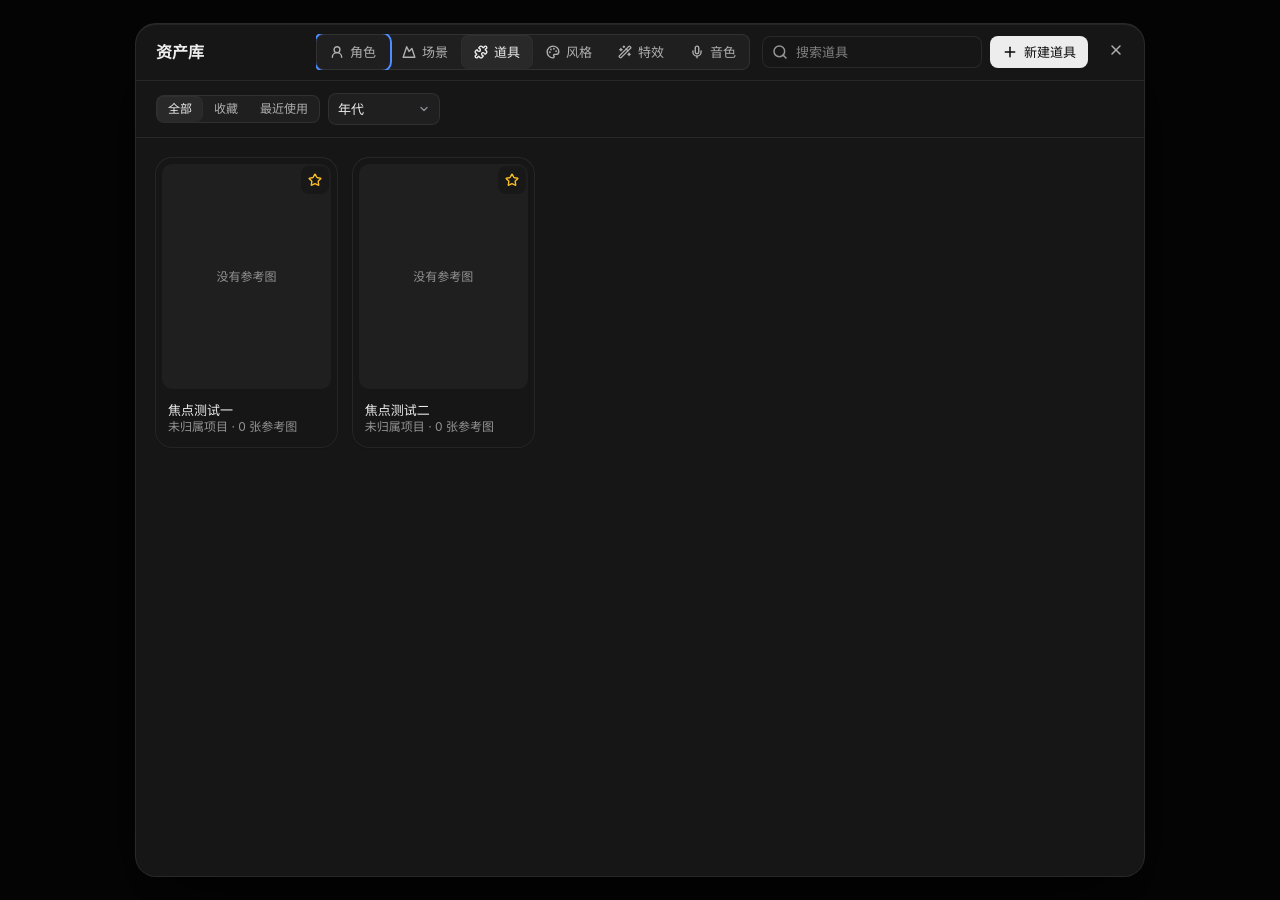
Test: 资产库面板的收藏 › 取消收藏等待期间主动搜索，迟到响应不夺走查询框焦点
Click the 1st button named "取消收藏" at (315, 180), box [301, 166, 329, 194]
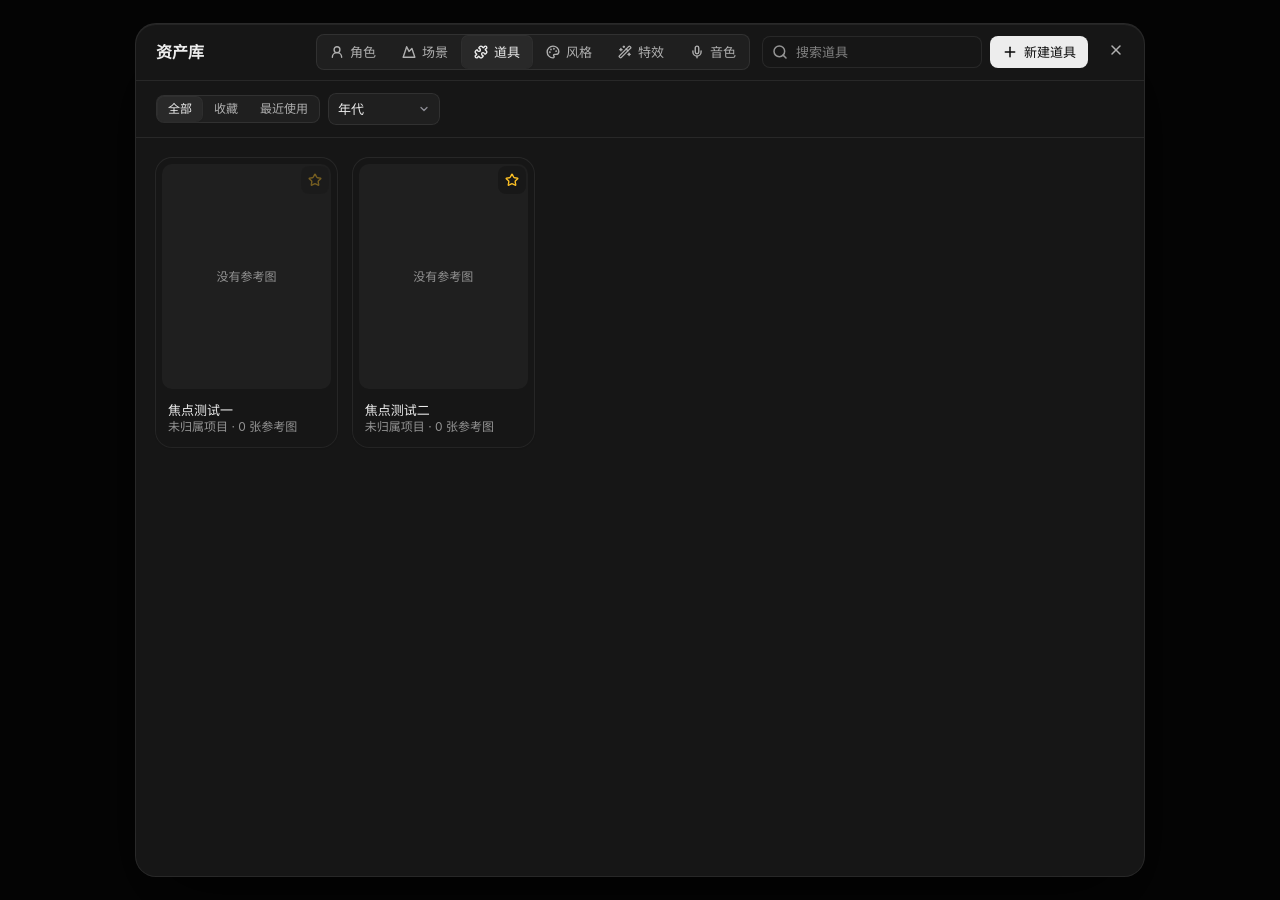
Type "焦点测试二" into the search field labelled "搜索道具" at (884, 52), box [796, 43, 972, 61]
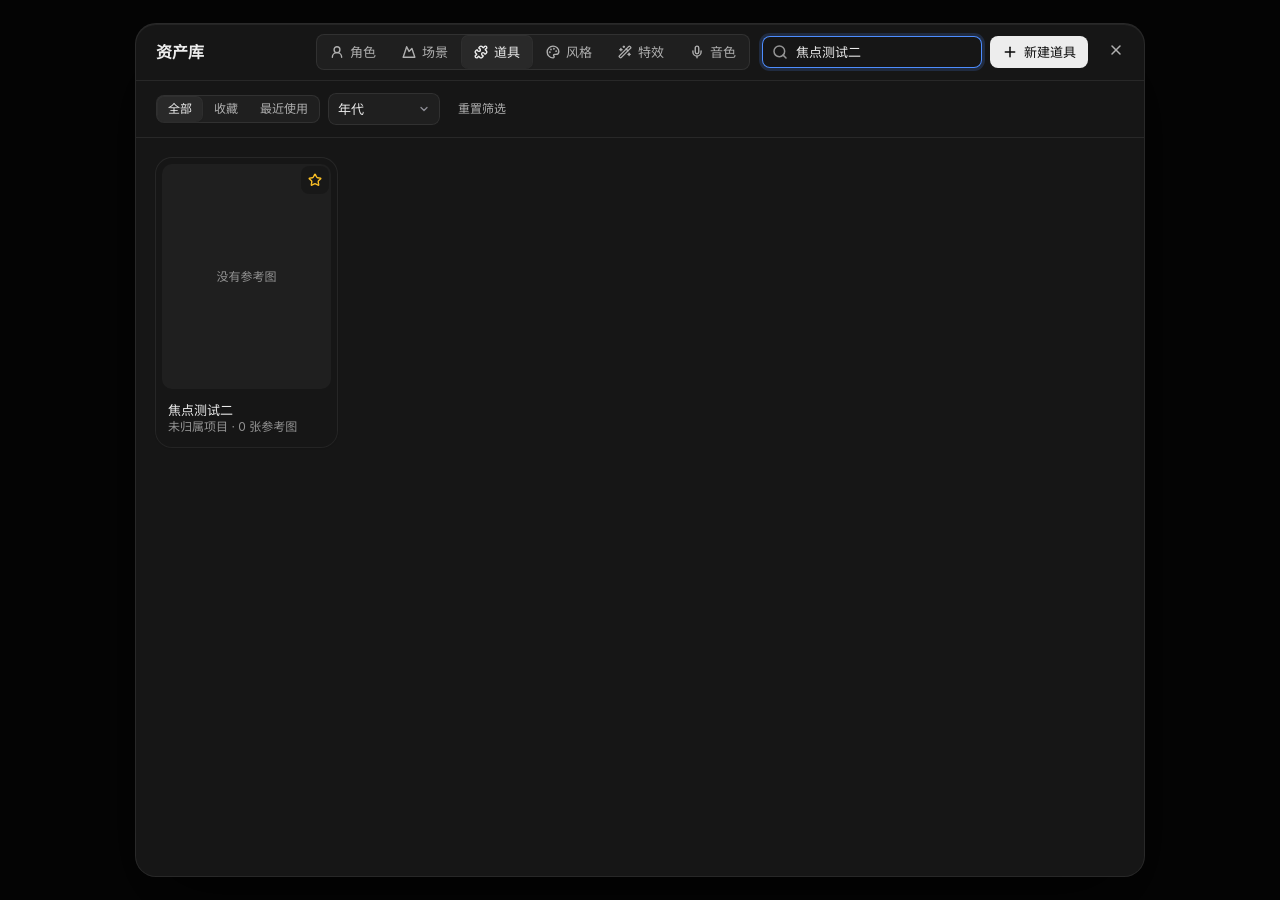
Result: the number of list items is 1 at [156, 158, 337, 447]
